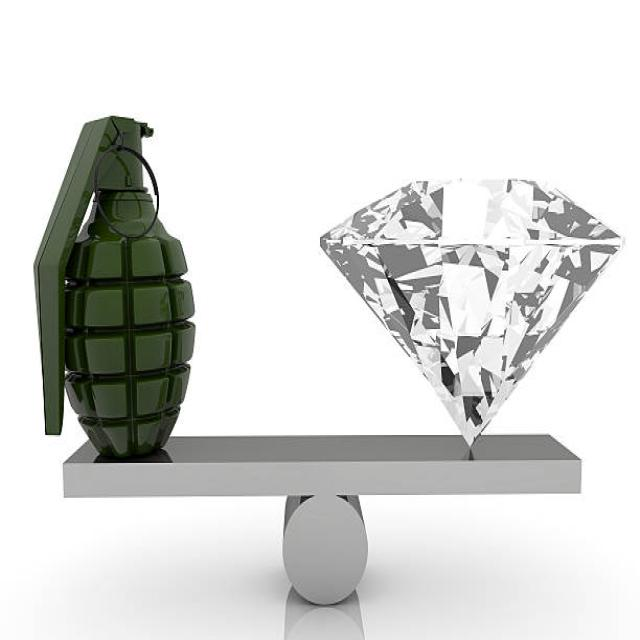grenade: (34, 107, 197, 464)
